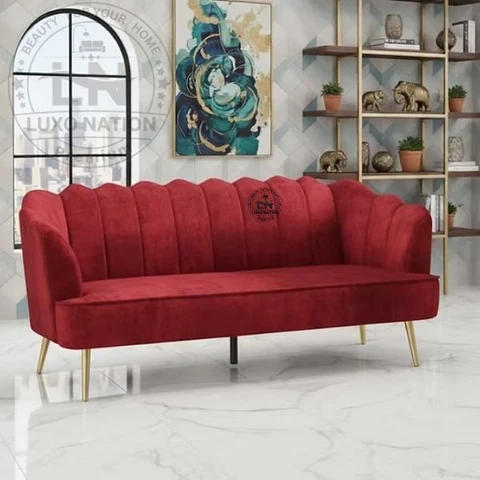3seatersofa: (20, 176, 438, 400)
backrest: (23, 177, 338, 280)
leftarmrest: (329, 181, 430, 271)
leg: (405, 322, 417, 366), (37, 338, 49, 373), (82, 350, 90, 401), (230, 337, 237, 363), (360, 325, 365, 343)
rightarmrest: (22, 210, 80, 341)
seat: (56, 265, 438, 348)
